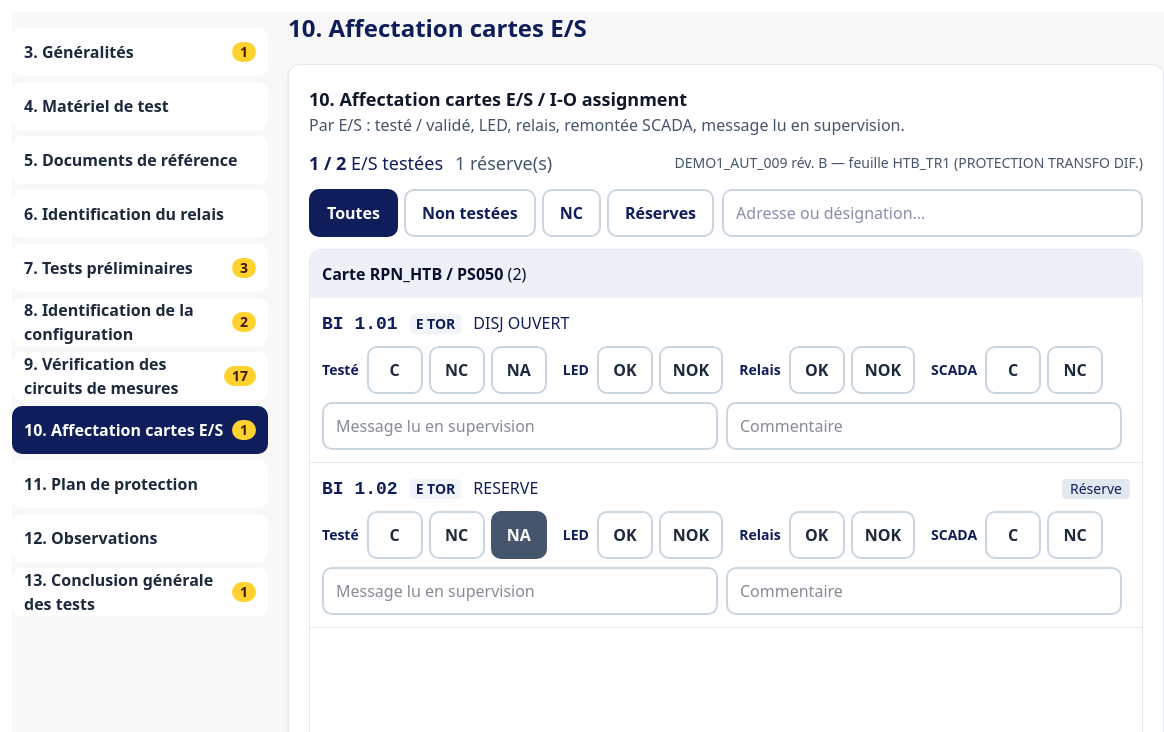
Test: liste des E/S › compteur, filtres, recherche et saisie horodatée
The image size is (1164, 732).
Expected: the element with test id "compteur-es" shows "1 / 2", [309, 149, 552, 177]
Expected: the text "BI 1.01" is shown, [322, 310, 398, 338]
Click the 1st radio button labelled "C" at (395, 370), box [367, 346, 423, 394]
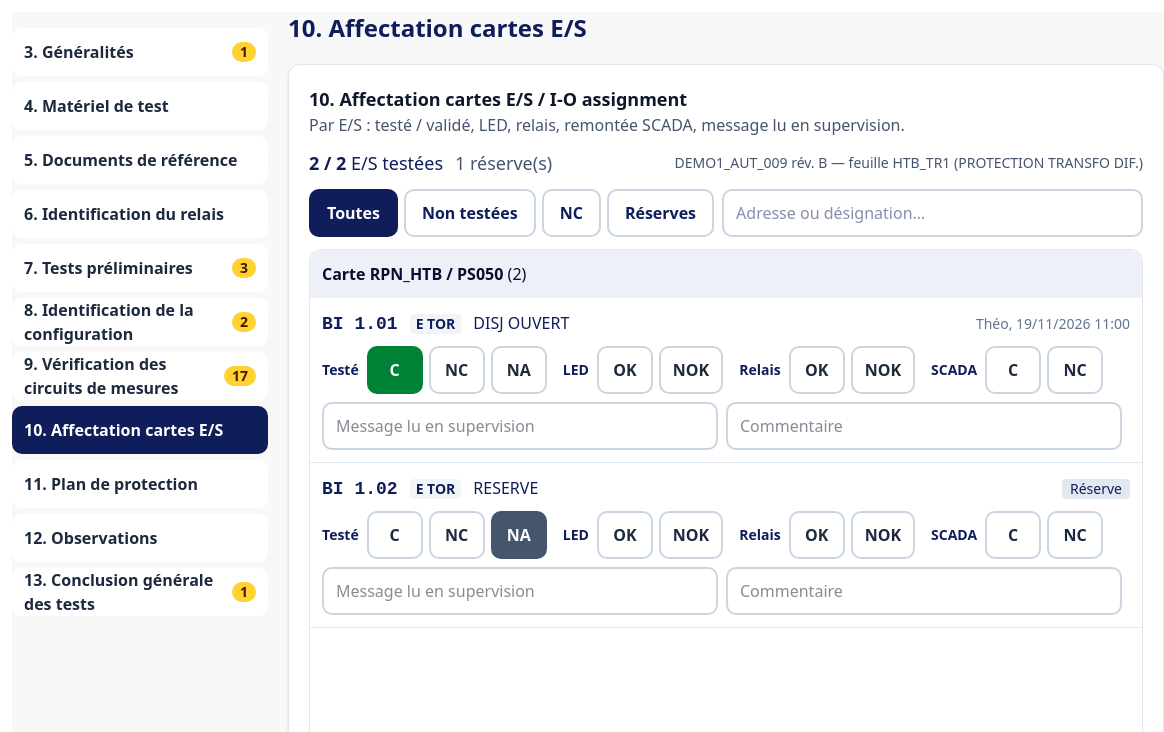
Result: the element with test id "compteur-es" shows "2 / 2" at [309, 149, 552, 177]
Click the button "Réserves" at (660, 213), box [607, 189, 714, 237]
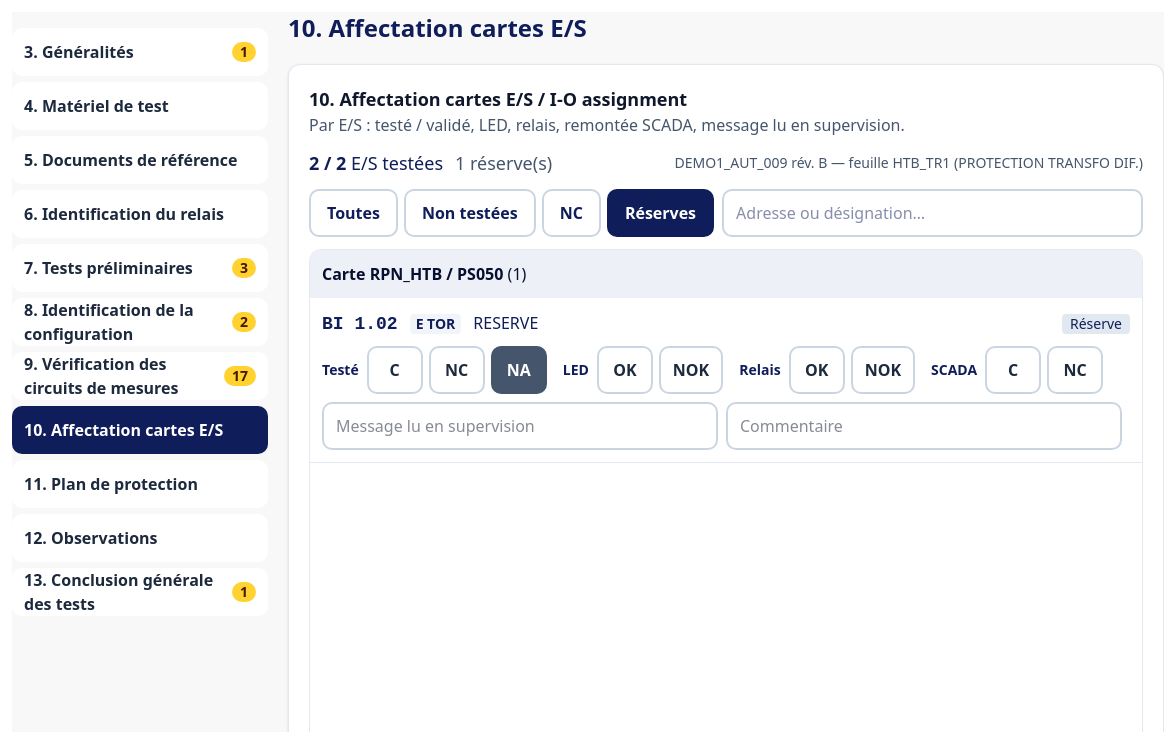
Expected: the text "BI 1.02" is shown, [322, 310, 398, 338]
Result: the text "BI 1.01" is gone
Click the button "Toutes" at (353, 213), box [309, 189, 398, 237]
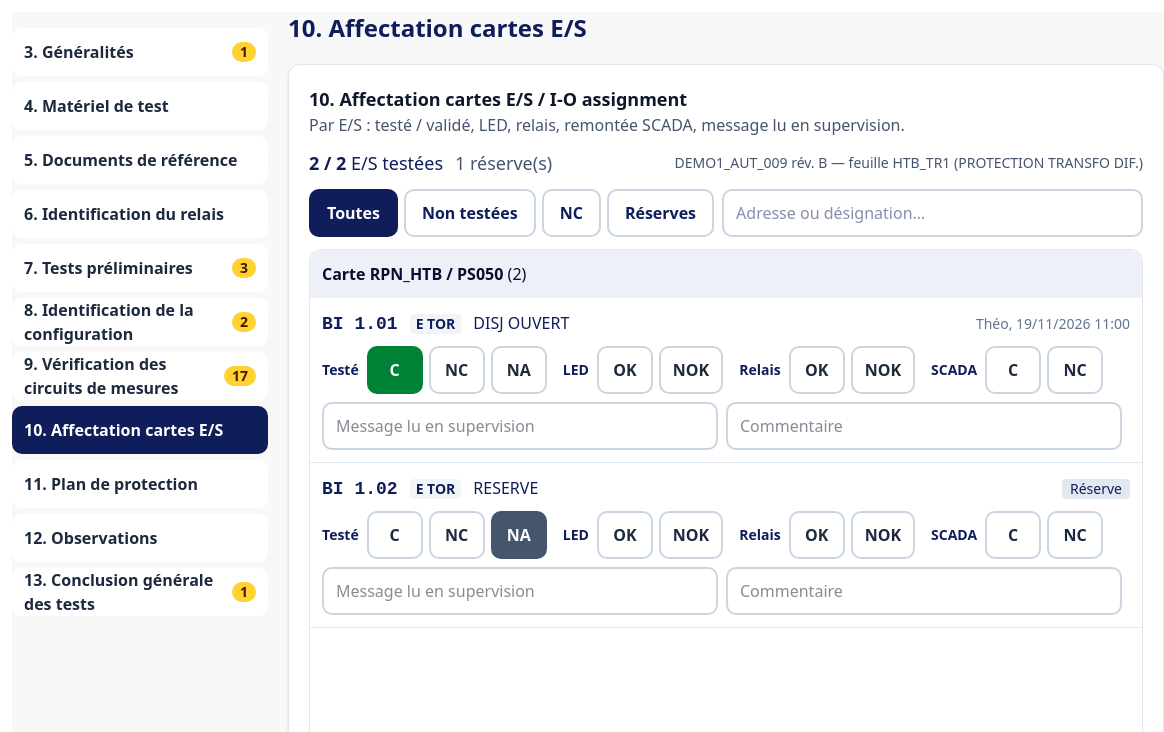
Type "disj" into the search field named "Rechercher une E/S" at (933, 213), box [722, 189, 1143, 237]
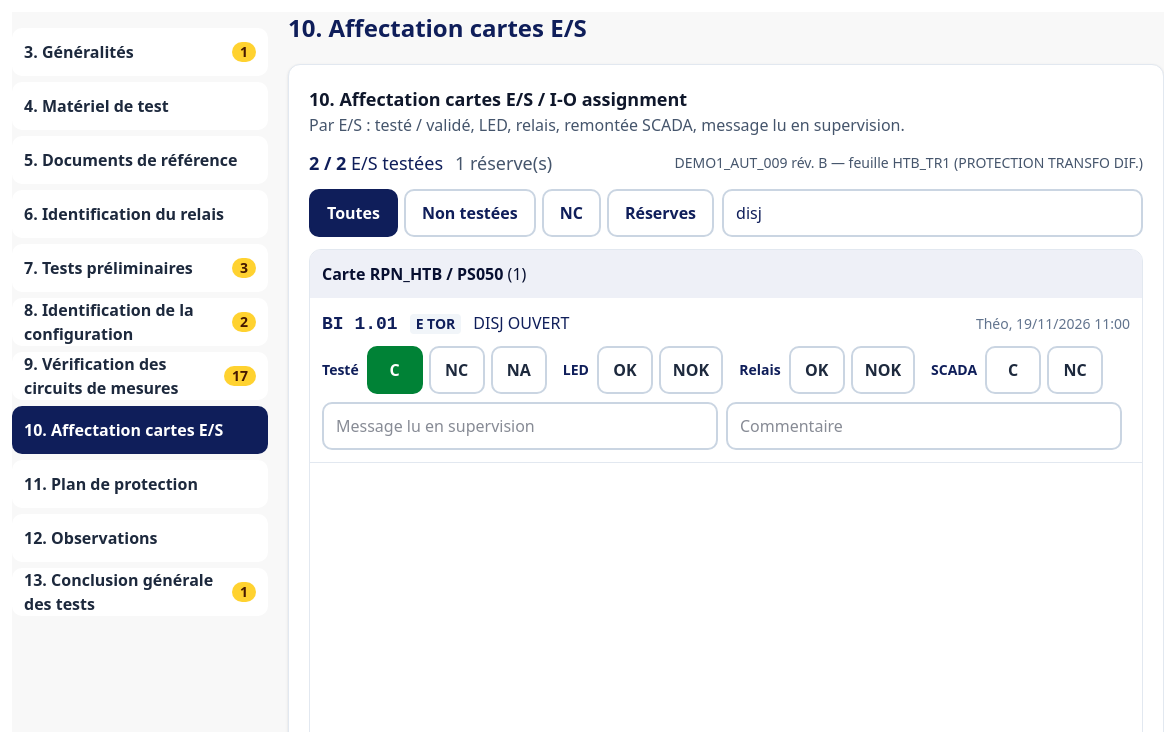
Result: the text "BI 1.01" is shown at [322, 310, 398, 338]
Result: the text "BI 1.02" is gone
